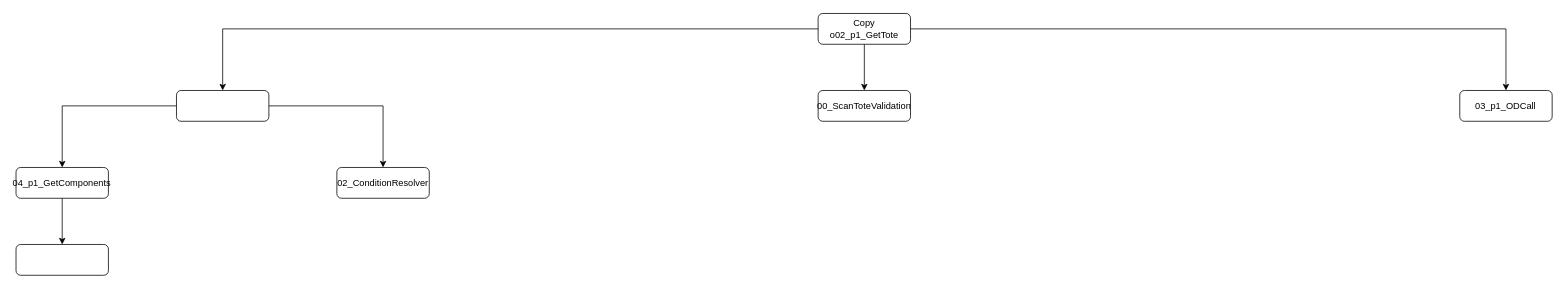
The diagram is 1565 pixels wide and 289 high, and some of its shapes have lost their labels. Here are the shapes that lost their labels. From the top down, the centre of each, then its label:
At (x=222, y=105): "03_p1_GetFlow".
At (x=61, y=259): "00_GetShoeCare".
